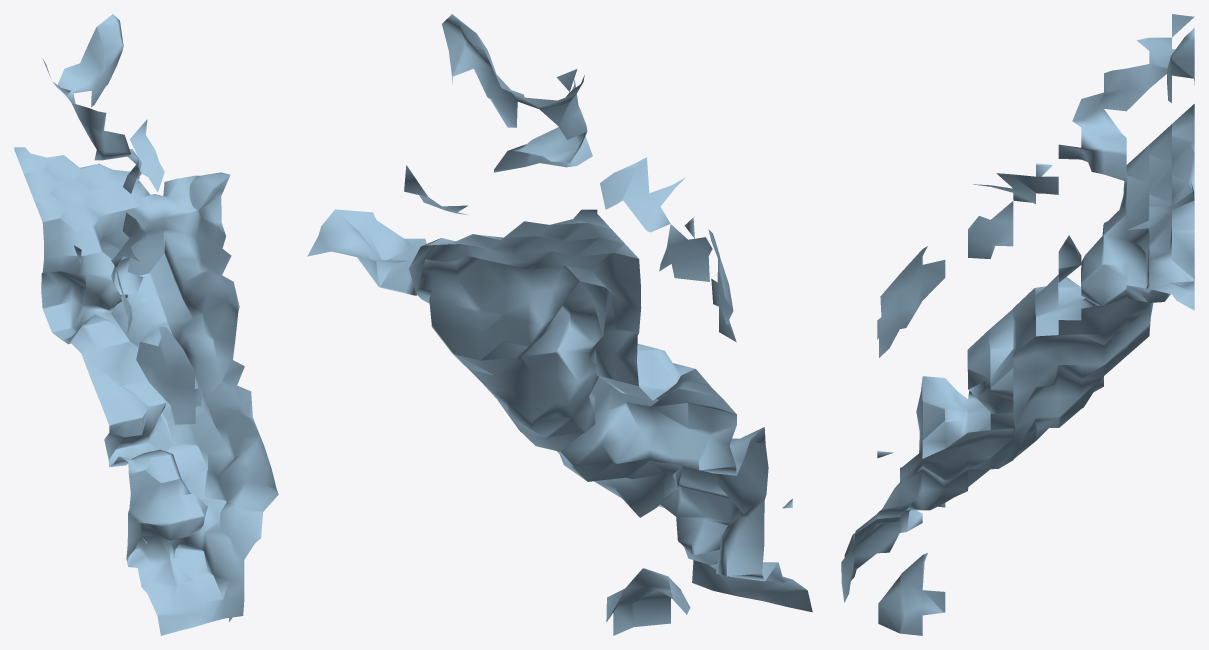
The model's file is tile_0_-1.glb.
3 renders of one model, left to right at view 1: azimuth 30°, elevation 25°; view 2: azimuth 150°, elevation 25°; view 3: azimuth 270°, elevation 25°, orthographic. The views are drawn at different scales.
Parts seen in each view (by area): view 1: mesh; view 2: mesh; view 3: mesh.
Part boxes in pixels (x1,y1,x2,y2): mesh: (14,14,278,635); mesh: (307,14,812,635); mesh: (841,14,1194,635).
Bounding box in the file's own units: 12 × 29.49 × 15.59.
